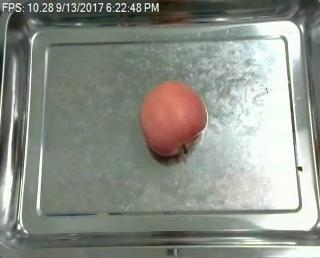apple: (139, 81, 209, 158)
